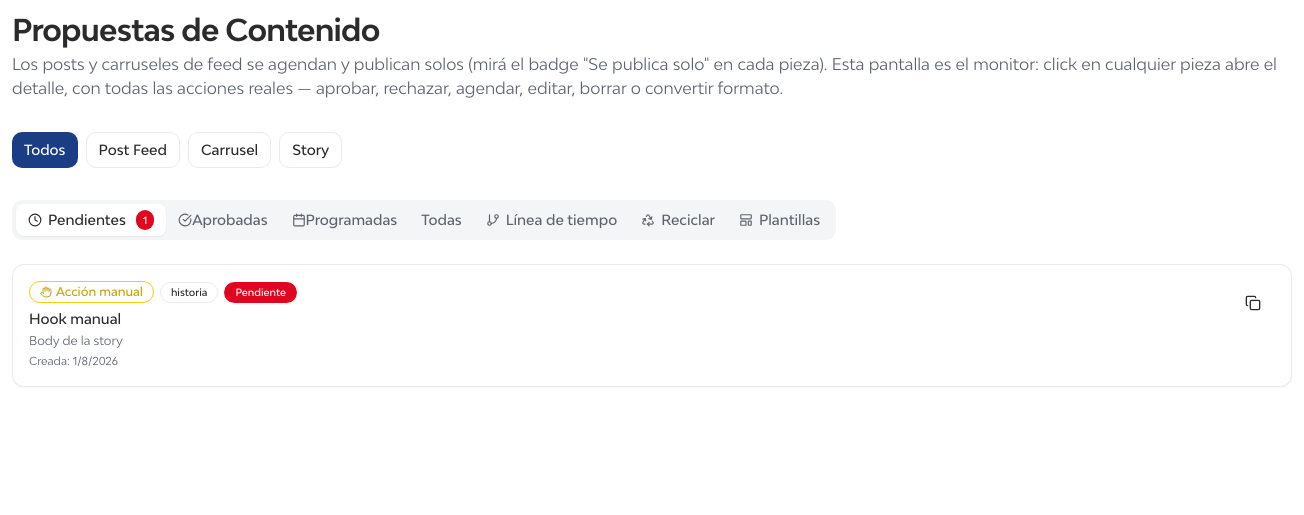
Test case: Propuestas Page › shows the empty state for templates
The width and height of the screenshot is (1304, 515).
Press the mouse on the tab "Plantillas" at (780, 220), box [727, 204, 832, 236]
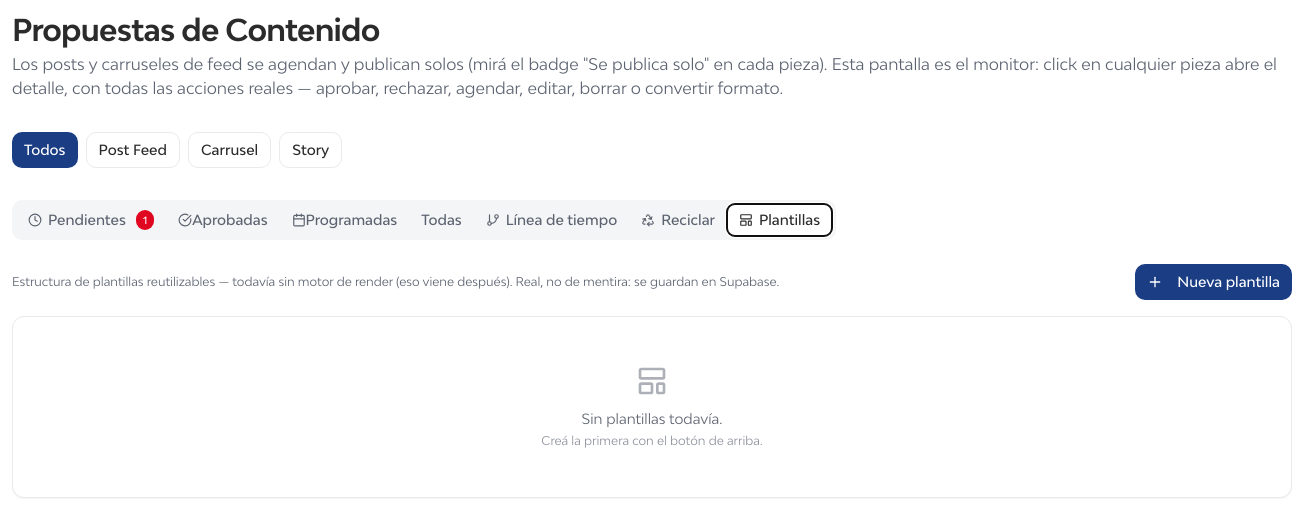
Result: the text "Sin plantillas todavía." is shown at [582, 409, 722, 429]
